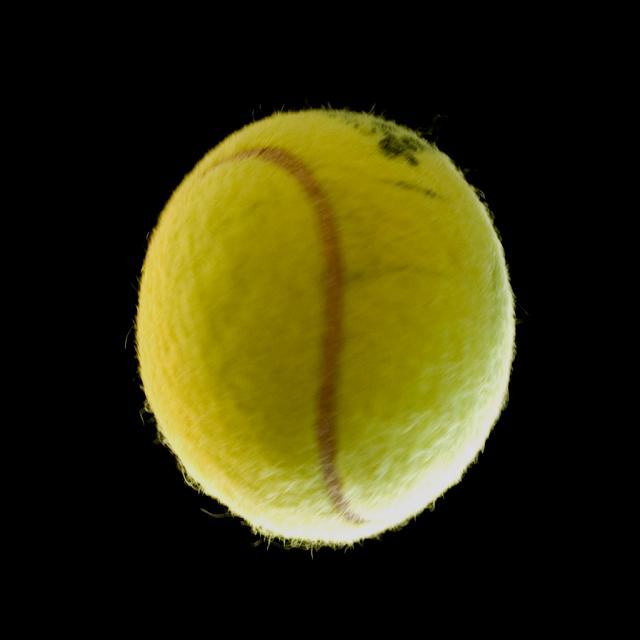Tennis Ball: (124, 92, 528, 562)
